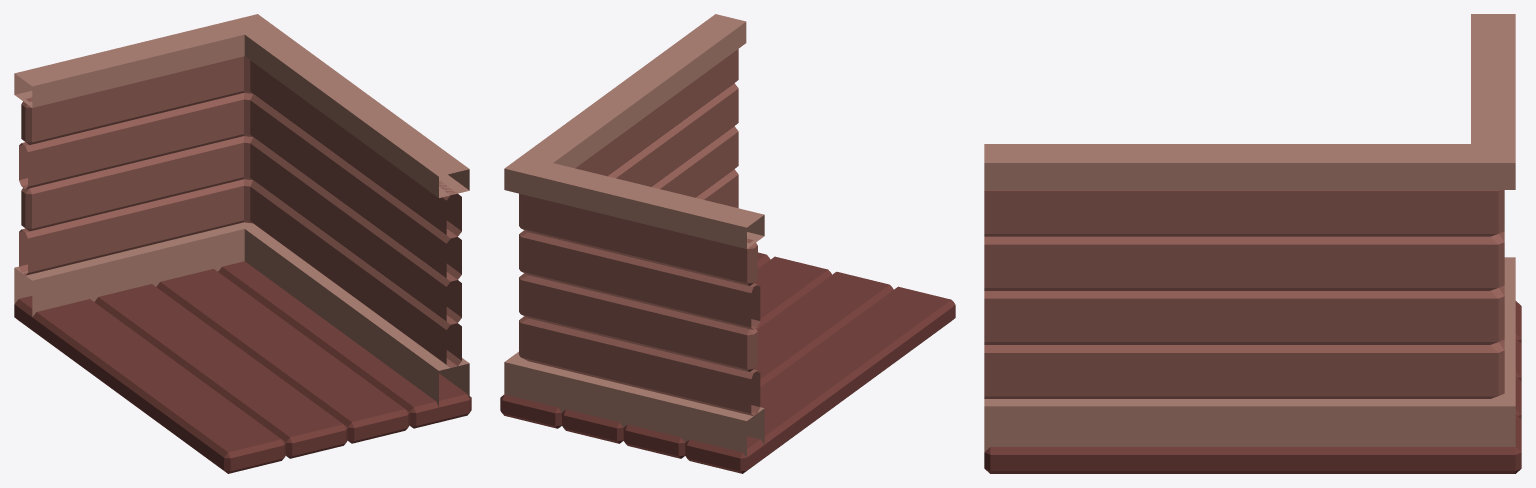
File: BalconyCorner_1.fbx
3 renders of one model, left to right at view 1: azimuth 30°, elevation 25°; view 2: azimuth 150°, elevation 25°; view 3: azimuth 270°, elevation 25°, orthographic. The views are drawn at different scales.
Visible parts, largest first — view 1: BalconyCorner_1; view 2: BalconyCorner_1; view 3: BalconyCorner_1.
Boxes of the visible parts, x1,y1,x2,y2 form: BalconyCorner_1: (14,14,471,473); BalconyCorner_1: (500,14,955,473); BalconyCorner_1: (984,14,1521,473).
Size of the model in its own units: 1.2 by 1.8 by 1.15.
